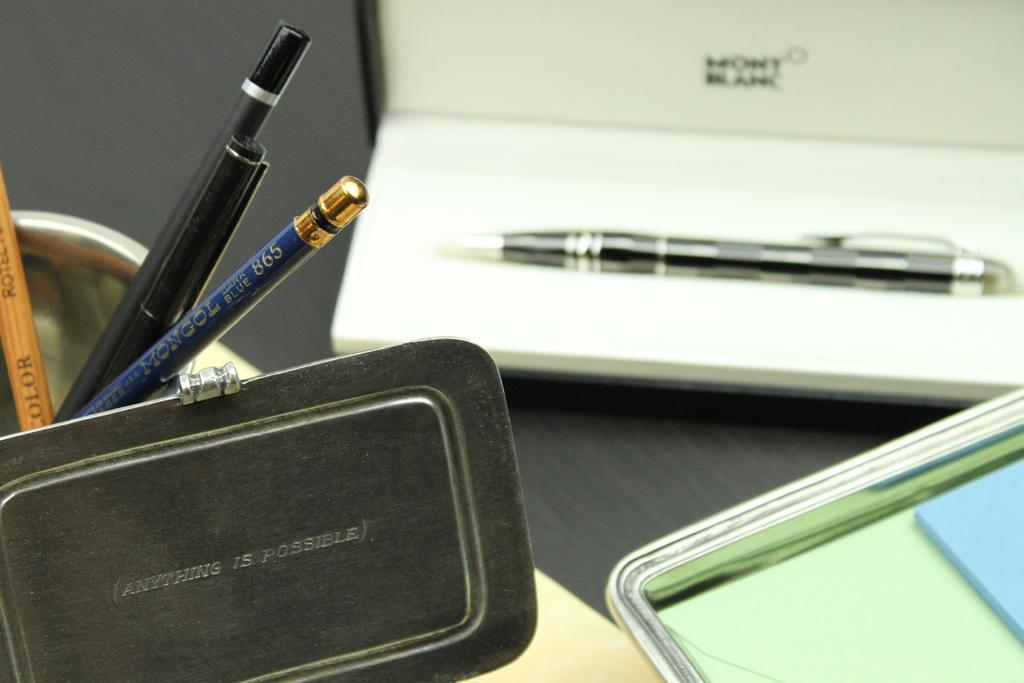pen: (77, 132, 276, 425), (450, 223, 1022, 295)
